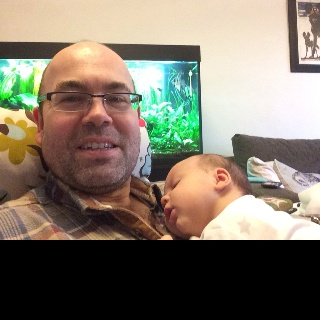without_mask: (41, 54, 137, 186), (159, 163, 215, 233)
